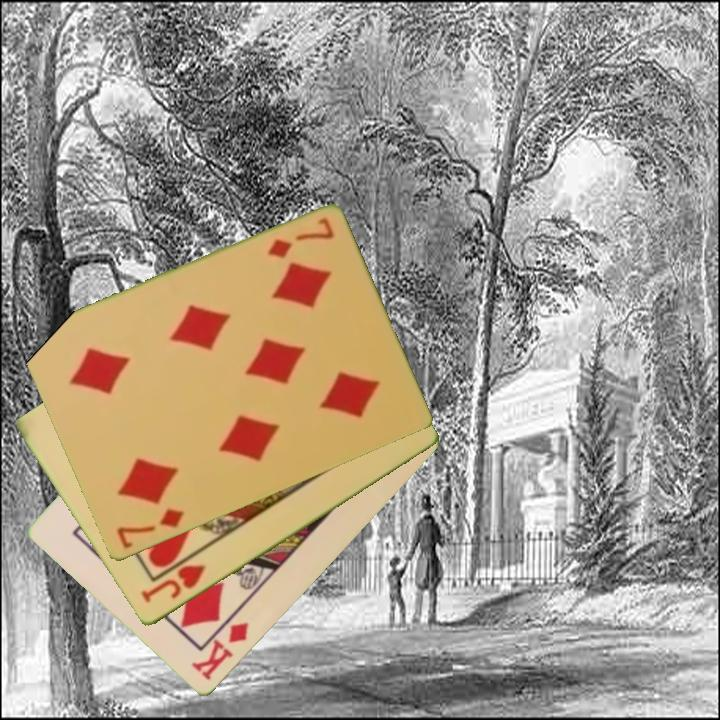7d: (263, 214, 337, 263), (113, 505, 188, 552)
Jh: (137, 561, 209, 607)
Kd: (187, 619, 252, 685)
